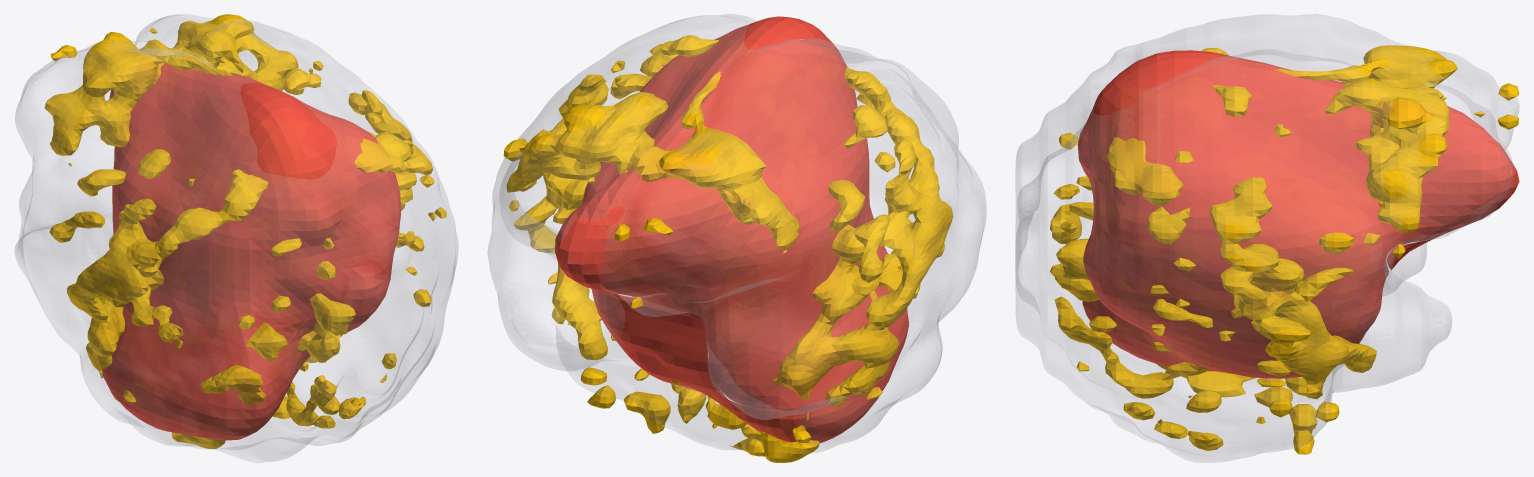
File: case_17.gltf
3 renders of one model, left to right at view 1: azimuth 30°, elevation 25°; view 2: azimuth 150°, elevation 25°; view 3: azimuth 270°, elevation 25°, orthographic. The views are drawn at different scales.
Visible parts, largest first — view 1: brain, stroke, penumbra; view 2: brain, stroke, penumbra; view 3: brain, stroke, penumbra.
Boxes of the visible parts, <box> form: brain: <box>14,14,458,462</box>; stroke: <box>102,63,400,440</box>; penumbra: <box>44,14,446,448</box>; brain: <box>487,14,986,452</box>; stroke: <box>555,16,908,442</box>; penumbra: <box>503,35,953,462</box>; brain: <box>1015,14,1519,462</box>; stroke: <box>1077,50,1519,378</box>; penumbra: <box>1050,45,1519,454</box>.
Bounding box in the file's own units: 1.65 × 1.62 × 1.91.
